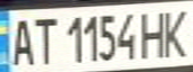1: (60, 11, 84, 64), (81, 11, 100, 62)
4: (115, 8, 142, 61)
5: (96, 10, 121, 61)
A: (6, 15, 36, 66)
H: (139, 6, 172, 58)
K: (157, 3, 193, 59)
T: (30, 12, 60, 66)
